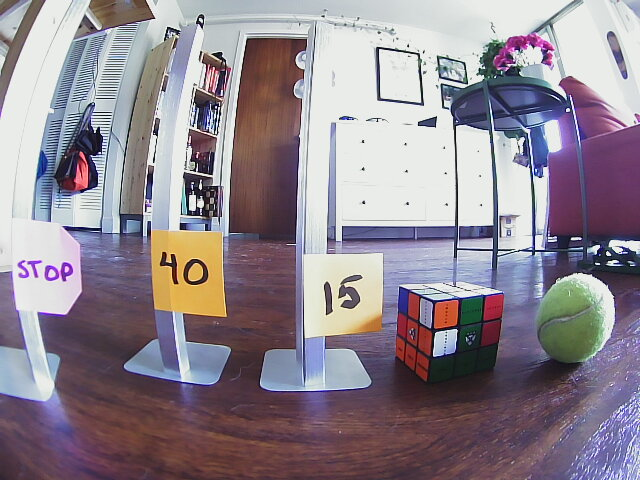15: (303, 254, 382, 333)
40: (151, 230, 224, 315)
ball: (537, 274, 615, 367)
cube: (398, 282, 507, 384)
stop: (15, 227, 75, 309)
